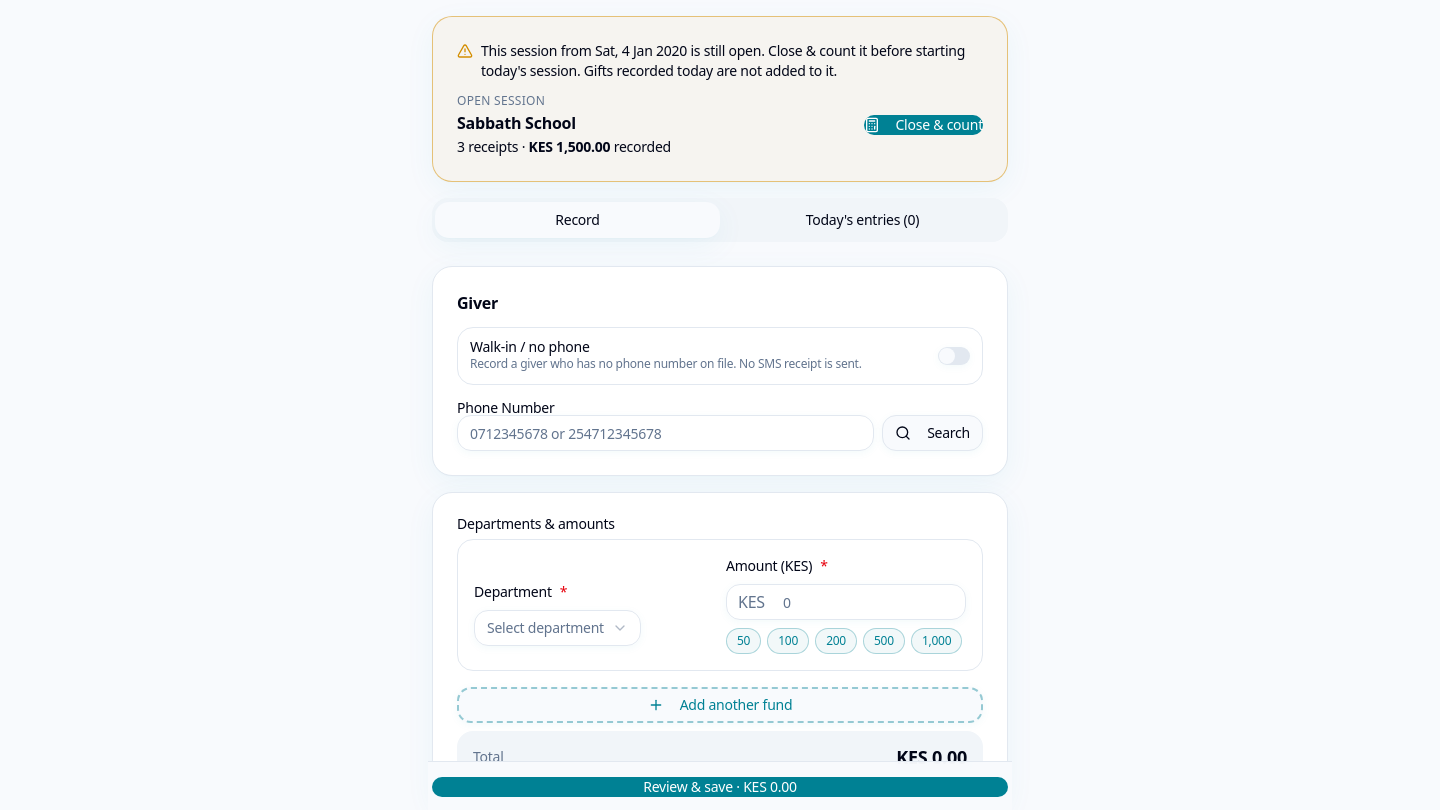
Test case: Collection session banner › prompts to close & count a session left open from a previous day
This screenshot has width=1440, height=810.
Expected: the message with test id "stale-session-warning" shows "This session from Sat, 4 Jan 2020 is still open", [457,41,983,81]
Click the button "Close & count": click(923, 125) [864,115,983,135]
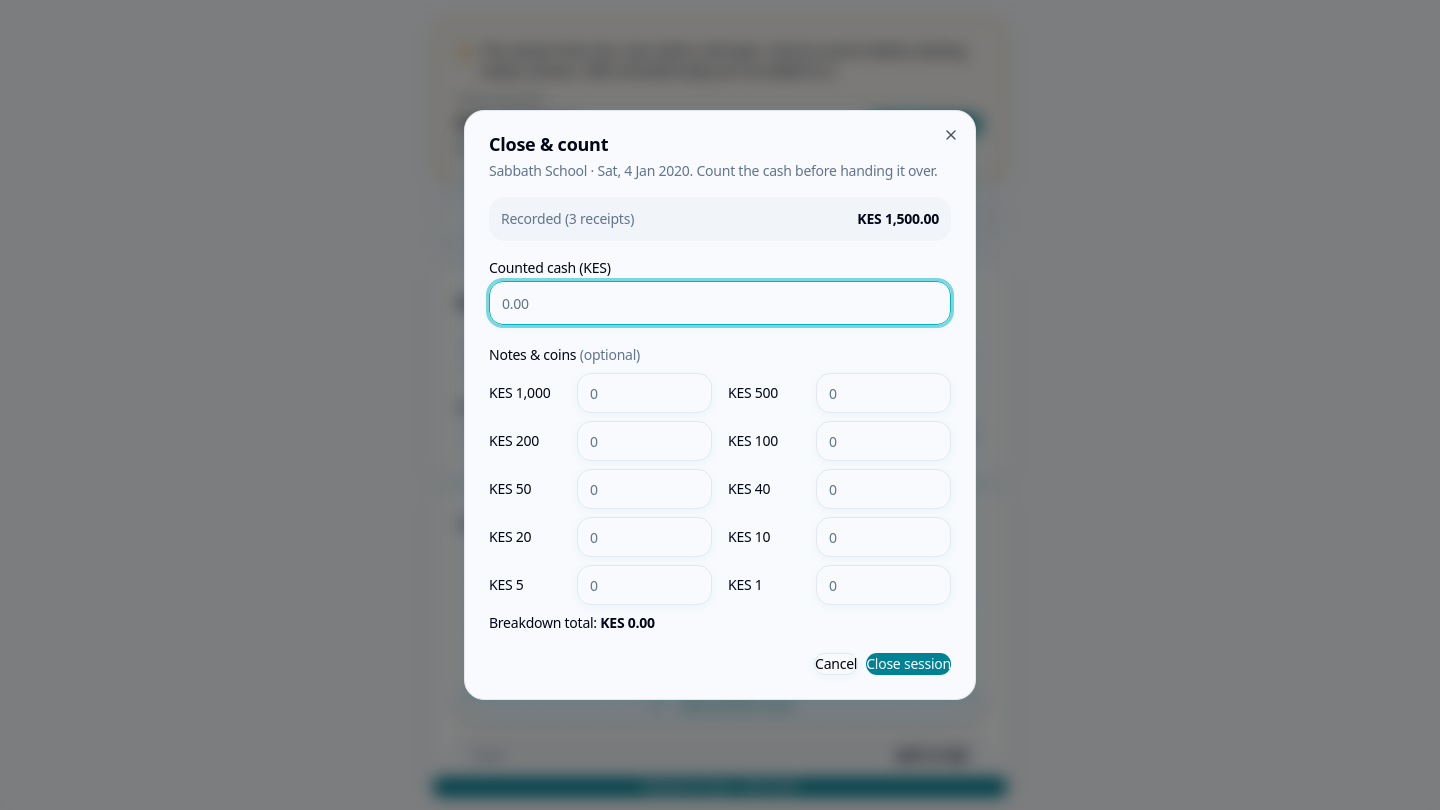
Expected: the text "Sabbath School · Sat, 4 Jan 2020" is shown, [489,161,951,181]
